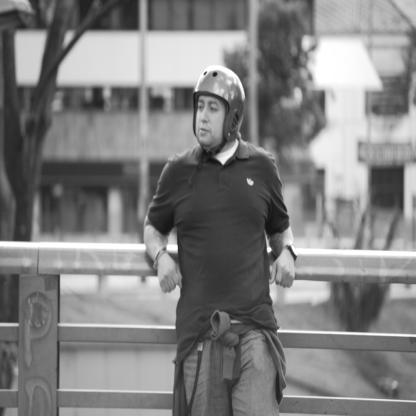Helmet: (188, 65, 245, 186)
